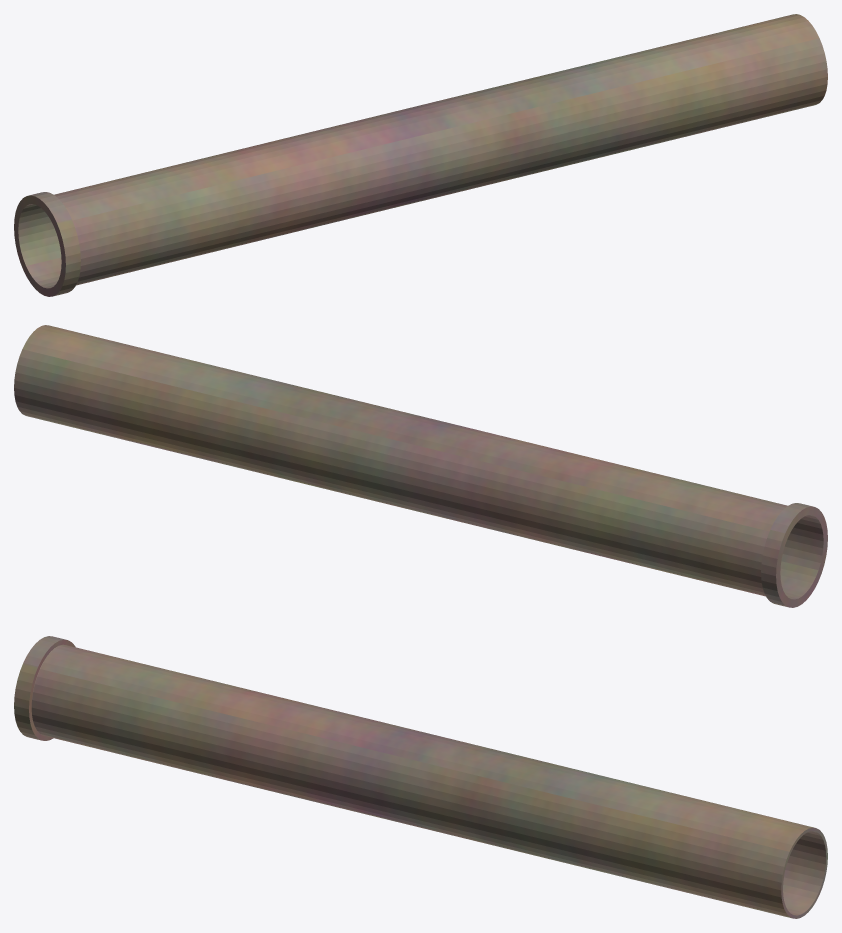
The model's file is Pipe 4 no end.glb.
The picture shows the model from 3 angles, top to bottom: view 1: azimuth 30°, elevation 25°; view 2: azimuth 150°, elevation 25°; view 3: azimuth 330°, elevation 25°; orthographic projection.
Parts seen in each view (by area): view 1: Pipe 500mm NE; view 2: Pipe 500mm NE; view 3: Pipe 500mm NE.
Part boxes in pixels (<box>): Pipe 500mm NE: <box>14,14,827,296</box>; Pipe 500mm NE: <box>14,325,827,607</box>; Pipe 500mm NE: <box>14,636,827,918</box>.
Bounding box in the file's own units: 36.28 × 4.27 × 4.27.
1 material, 1 textured.
